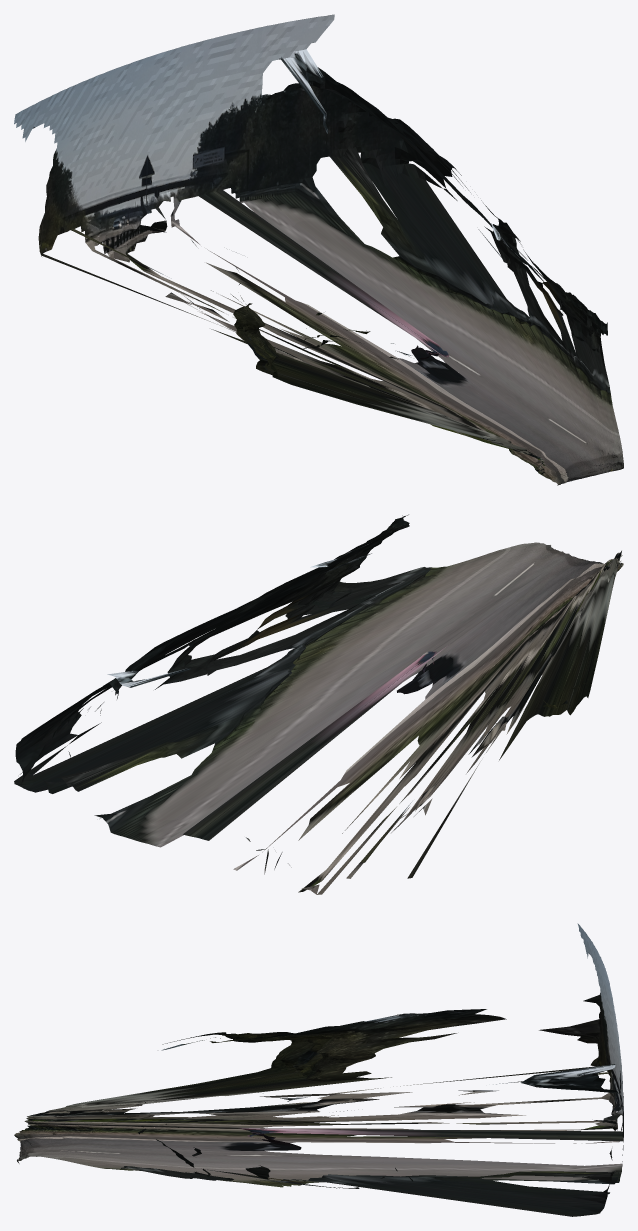
The picture shows the model from 3 angles, top to bottom: view 1: azimuth 30°, elevation 25°; view 2: azimuth 150°, elevation 25°; view 3: azimuth 270°, elevation 25°; orthographic projection. The views are drawn at different scales.
Visible parts, largest first — view 1: defaultobject; view 2: defaultobject; view 3: defaultobject.
Boxes of the visible parts, x1=… form: defaultobject: x1=14, y1=14, x2=623, y2=485; defaultobject: x1=14, y1=514, x2=623, y2=894; defaultobject: x1=14, y1=923, x2=623, y2=1216.
Bounding box in the file's own units: 28.23 × 13 × 44.7.
1 material, 1 textured.
